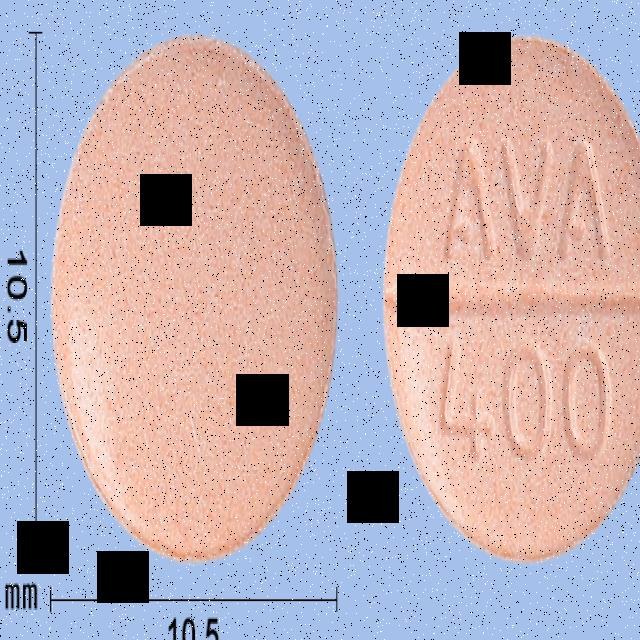Aclova 400mg: (380, 33, 640, 567)
